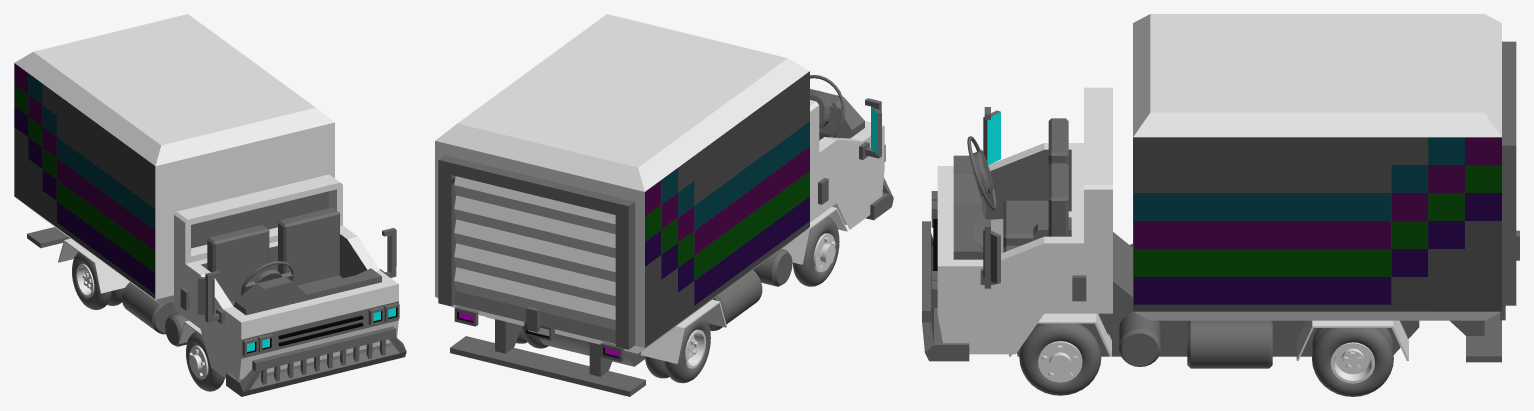
File: vehicle_truck_ground.fbx
The picture shows the model from 3 angles, left to right: view 1: azimuth 30°, elevation 25°; view 2: azimuth 150°, elevation 25°; view 3: azimuth 270°, elevation 25°; orthographic projection. The views are drawn at different scales.
Parts seen in each view (by area): view 1: vehicle_truck_ground, cab1, chair_back (×2), cab2, front_grill (×2), carriage, door (×2), dash_driver (×2), door_deets (×2), headlight (×2), tire2a, tire1 (+4 smaller); view 2: vehicle_truck_ground, rear_door, carriage (×2), door, cab1, tire1, tire2a, door_deets, dash_driver, tire_hub1, steering_handles, tire_hub2a (+1 smaller); view 3: vehicle_truck_ground, carriage (×2), door (×2), cab2, rear_door, tire1, tire2a, cab1, dash_driver (×2), chair_back (×2), door_deets (×2), front_grill (×2) (+4 smaller).
Boxes of the visible parts, <box> form: vehicle_truck_ground: <box>14,14,334,304</box>; cab1: <box>174,193,319,379</box>; chair_back (×2): <box>207,207,339,301</box>; cab2: <box>253,174,398,359</box>; front_grill (×2): <box>226,326,406,396</box>; carriage: <box>27,227,202,346</box>; door (×2): <box>185,226,385,374</box>; dash_driver (×2): <box>233,268,381,315</box>; door_deets (×2): <box>180,228,396,323</box>; headlight (×2): <box>242,303,399,356</box>; tire2a: <box>72,252,111,309</box>; tire1: <box>186,331,224,391</box>; vehicle_truck_ground: <box>435,14,809,353</box>; rear_door: <box>438,155,635,349</box>; carriage (×2): <box>450,207,847,396</box>; door: <box>819,133,869,225</box>; cab1: <box>810,100,884,229</box>; tire1: <box>792,216,839,286</box>; tire2a: <box>664,315,710,383</box>; door_deets: <box>818,98,881,204</box>; dash_driver: <box>810,89,864,140</box>; tire_hub1: <box>813,233,835,272</box>; steering_handles: <box>810,90,844,128</box>; tire_hub2a: <box>684,329,705,368</box>; vehicle_truck_ground: <box>1133,14,1501,320</box>; carriage (×2): <box>1009,217,1505,368</box>; door (×2): <box>970,143,1083,349</box>; cab2: <box>937,136,1112,354</box>; rear_door: <box>1502,41,1516,305</box>; tire1: <box>1019,323,1101,395</box>; tire2a: <box>1312,328,1393,396</box>; cab1: <box>937,87,1112,253</box>; dash_driver (×2): <box>953,155,986,259</box>; chair_back (×2): <box>1048,118,1068,236</box>; door_deets (×2): <box>980,107,1086,301</box>; front_grill (×2): <box>922,221,969,361</box>.
Size of the model in its own units: 525 by 558 by 1048.
6 materials, 1 textured.
